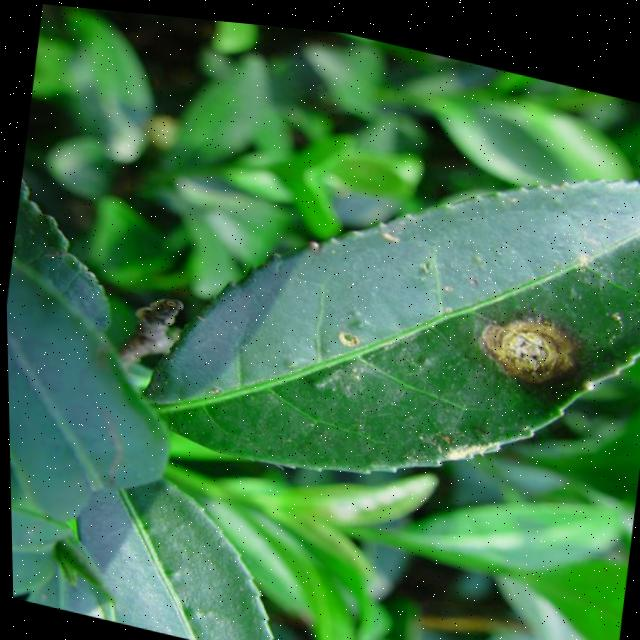Tea cloud leaf blight: (466, 290, 587, 400)
